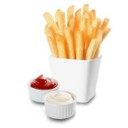frenchfries: (44, 2, 110, 58)
